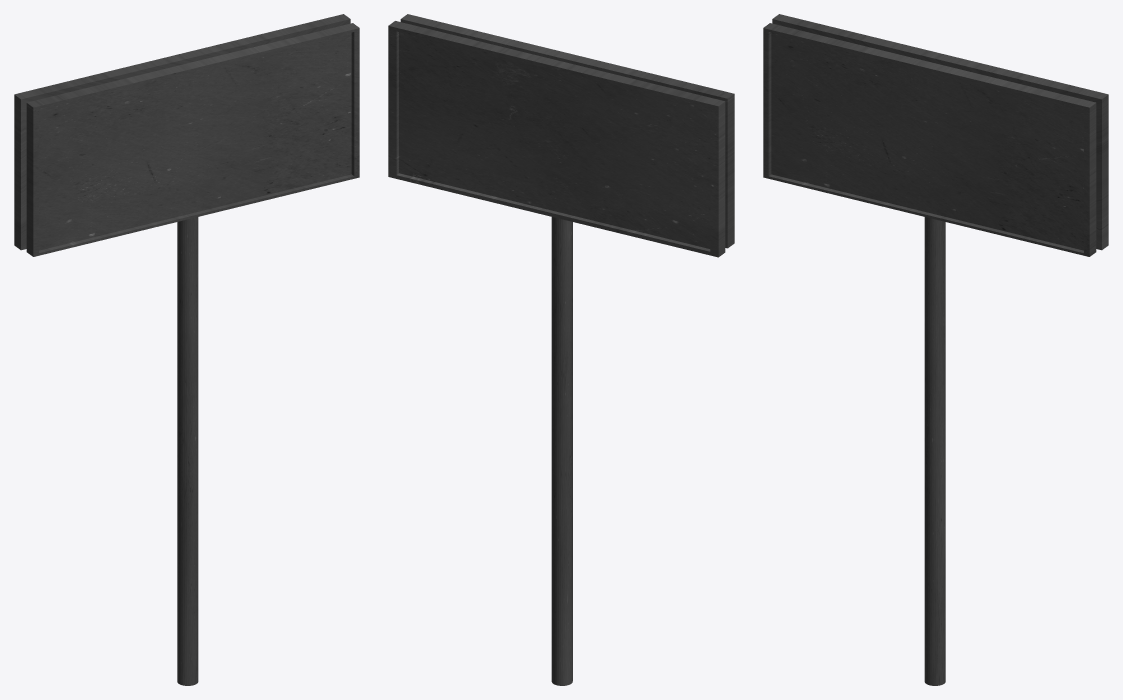
File: Billboard_Blank.glb
3 views of the same model, side by side, from view 1: azimuth 30°, elevation 25°; view 2: azimuth 150°, elevation 25°; view 3: azimuth 330°, elevation 25° (orthographic).
Visible parts, largest first — view 1: Cube.003; view 2: Cube.003; view 3: Cube.003.
Part boxes in pixels (x1=…): Cube.003: x1=14, y1=14, x2=359, y2=685; Cube.003: x1=388, y1=14, x2=734, y2=685; Cube.003: x1=763, y1=14, x2=1108, y2=685.
Size of the model in its own units: 18.02 by 32.44 by 1.67.
Materials: 1 (1 with a texture image).
